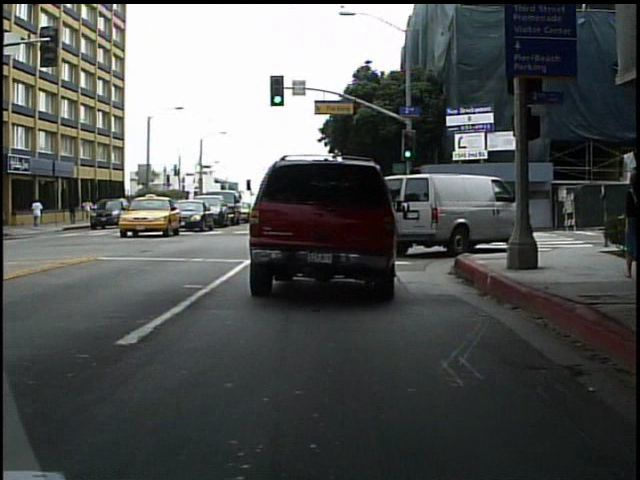person: (481, 175, 502, 235), (32, 196, 47, 229)
